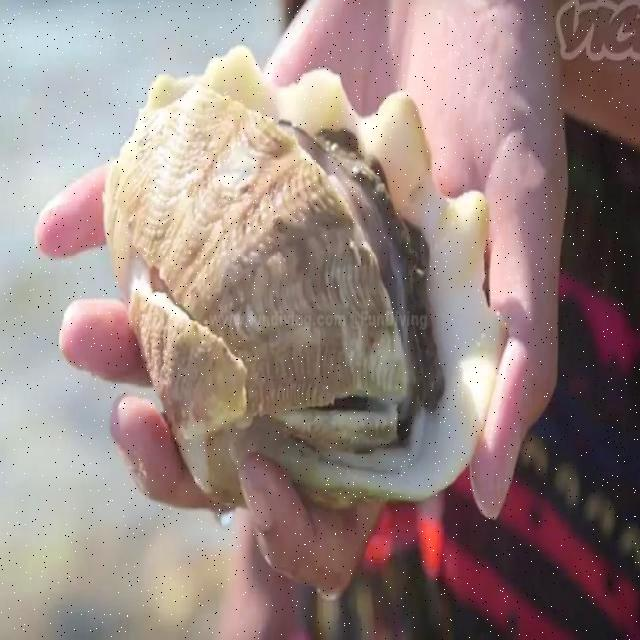Oyster-Open: (103, 44, 507, 514)
